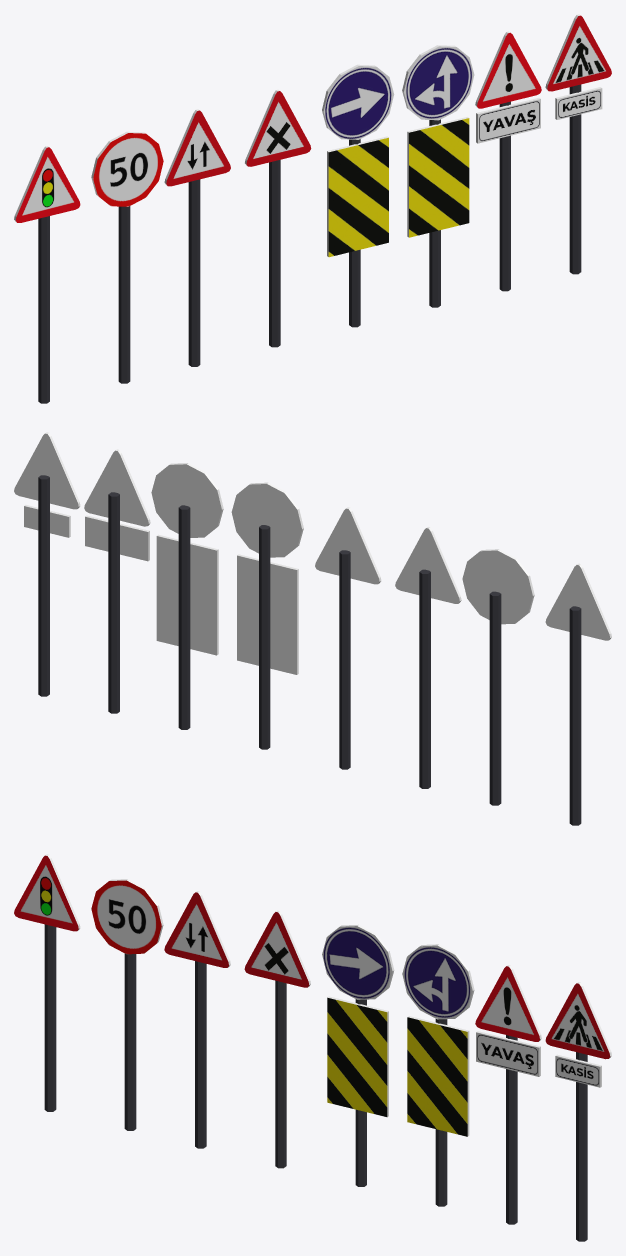
The model's file is Sign.fbx.
The picture shows the model from 3 angles, top to bottom: view 1: azimuth 30°, elevation 25°; view 2: azimuth 150°, elevation 25°; view 3: azimuth 330°, elevation 25°; orthographic projection.
Parts seen in each view (by area): view 1: İleridesolaMecburi, Saga, Diikatveyavas, Hız, yayagecidi veiKasis, Ciftyon, IsıklıIsaretCihazi, Çarpı; view 2: İleridesolaMecburi, Saga, Diikatveyavas, Hız, yayagecidi veiKasis, IsıklıIsaretCihazi, Çarpı, Ciftyon; view 3: İleridesolaMecburi, Saga, Diikatveyavas, Hız, yayagecidi veiKasis, IsıklıIsaretCihazi, Çarpı, Ciftyon.
Part boxes in pixels (x1=…): İleridesolaMecburi: x1=402, y1=45, x2=474, y2=307; Saga: x1=322, y1=64, x2=394, y2=327; Diikatveyavas: x1=475, y1=31, x2=541, y2=291; Hız: x1=91, y1=131, x2=163, y2=383; yayagecidi veiKasis: x1=545, y1=14, x2=611, y2=274; Ciftyon: x1=164, y1=109, x2=230, y2=366; IsıklıIsaretCihazi: x1=14, y1=146, x2=80, y2=403; Çarpı: x1=245, y1=89, x2=311, y2=347; İleridesolaMecburi: x1=151, y1=463, x2=223, y2=729; Saga: x1=231, y1=482, x2=303, y2=749; Diikatveyavas: x1=84, y1=449, x2=150, y2=713; Hız: x1=462, y1=549, x2=534, y2=805; yayagecidi veiKasis: x1=14, y1=432, x2=80, y2=696; IsıklıIsaretCihazi: x1=545, y1=563, x2=611, y2=825; Çarpı: x1=315, y1=507, x2=381, y2=769; Ciftyon: x1=395, y1=527, x2=461, y2=788; İleridesolaMecburi: x1=402, y1=944, x2=474, y2=1206; Saga: x1=322, y1=924, x2=394, y2=1186; Diikatveyavas: x1=475, y1=965, x2=541, y2=1224; Hız: x1=91, y1=879, x2=163, y2=1130; yayagecidi veiKasis: x1=545, y1=982, x2=611, y2=1241; IsıklıIsaretCihazi: x1=14, y1=854, x2=80, y2=1111; Çarpı: x1=244, y1=910, x2=310, y2=1168; Ciftyon: x1=164, y1=891, x2=230, y2=1148.
Size of the model in its own units: 595 by 250 by 12.31.
